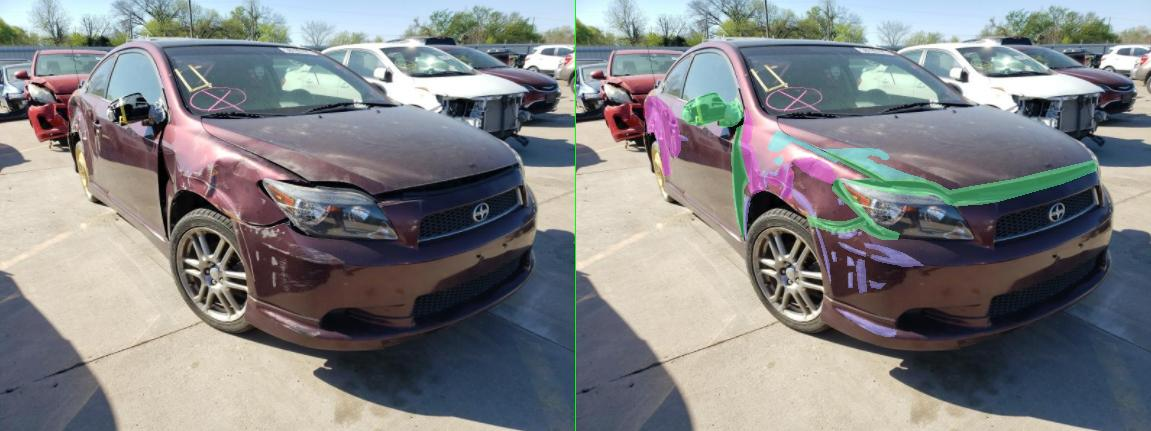Broken part: (498, 151, 1041, 205), (460, 177, 647, 239), (212, 91, 334, 127), (310, 124, 344, 239)
Dent: (138, 96, 188, 175), (326, 140, 378, 194), (432, 157, 524, 184), (186, 110, 208, 157), (326, 108, 352, 144), (410, 162, 434, 198), (378, 166, 416, 185)
Flaking: (492, 148, 719, 186), (382, 130, 528, 162), (394, 156, 414, 165)
Scratch: (520, 308, 641, 336), (577, 243, 695, 266), (430, 188, 484, 221), (478, 226, 508, 283), (366, 174, 430, 199), (330, 195, 348, 238), (524, 242, 579, 256), (472, 219, 522, 234), (334, 162, 356, 195), (560, 259, 581, 292), (589, 254, 649, 265), (522, 229, 560, 238), (176, 132, 186, 160), (416, 163, 430, 183), (587, 280, 619, 288), (376, 168, 408, 175), (494, 222, 534, 226), (196, 138, 206, 152), (542, 256, 556, 265), (544, 272, 552, 287), (202, 135, 224, 140), (190, 137, 196, 154), (186, 121, 202, 127), (144, 117, 150, 132), (356, 166, 366, 175), (464, 171, 482, 176), (510, 252, 520, 261), (362, 183, 374, 190), (158, 130, 164, 142), (524, 198, 534, 204), (190, 129, 200, 134), (168, 130, 174, 137), (166, 137, 174, 140), (564, 231, 570, 235)
